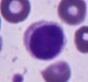L: (23, 20, 67, 60)
